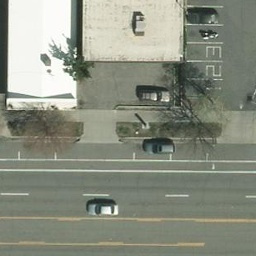car: (139, 89, 173, 104), (188, 9, 219, 25), (87, 202, 117, 215), (147, 142, 176, 155)
